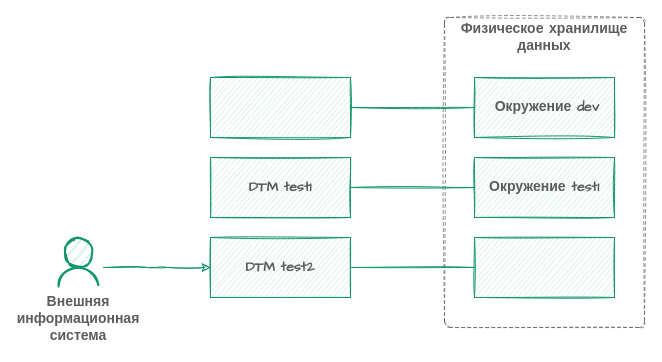
This 662x362 diagram has some shape labels left out. Here are the shapes that lost their labels. From the top down, the centre of each, then its label:
point 280,107: DTM dev
point 544,267: Окружение test2
